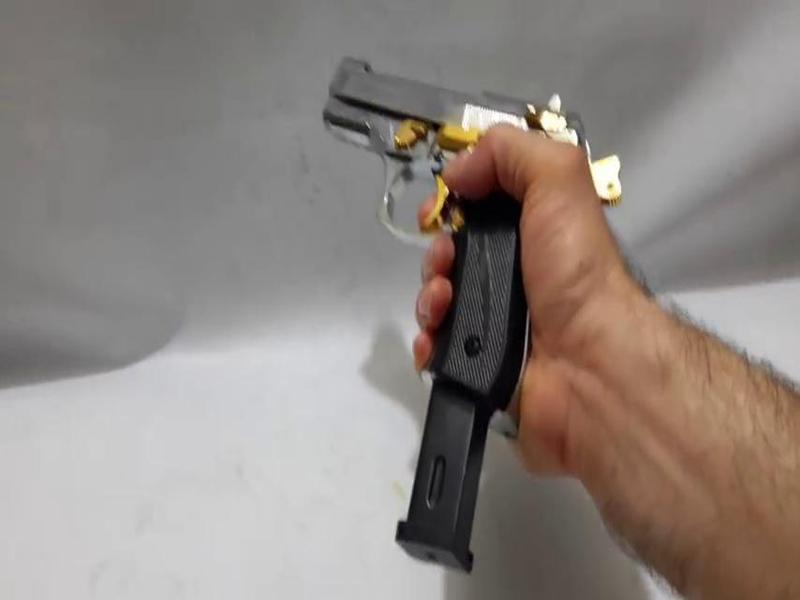Pistola: (273, 41, 619, 402)
